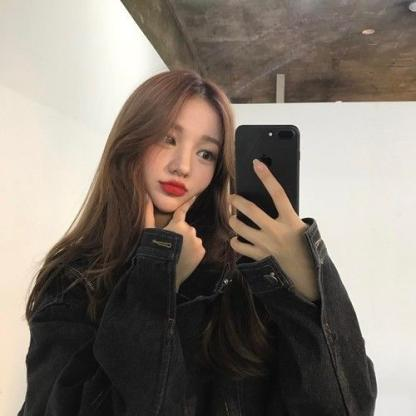person: (110, 71, 236, 228)
